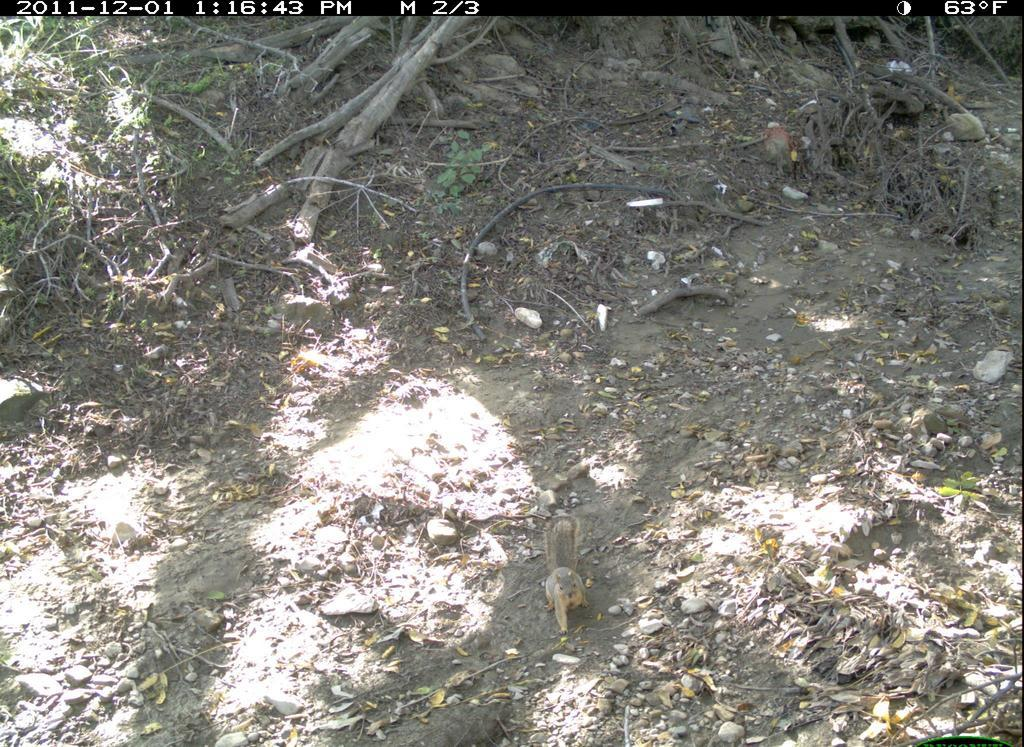squirrel: (534, 506, 600, 644)
